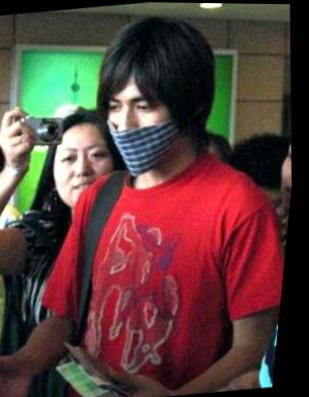NONE: (55, 130, 123, 206)
WRONG: (95, 84, 193, 176)
